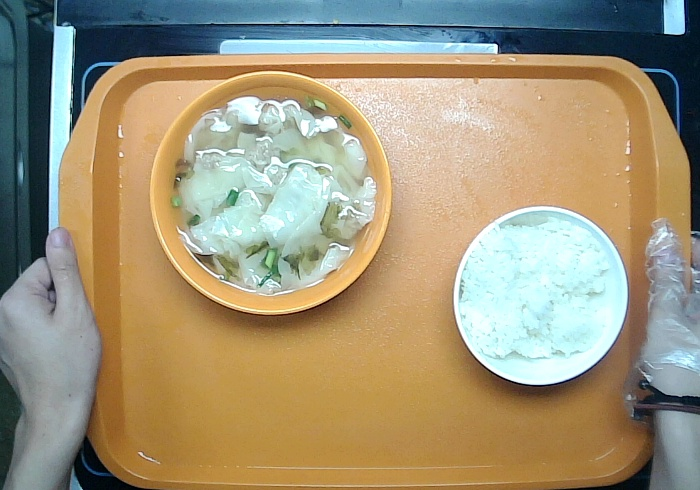NLDX-Fan_Wan: (447, 198, 632, 392)
NLDX-Hun_Tun_Wan: (145, 71, 396, 315)
